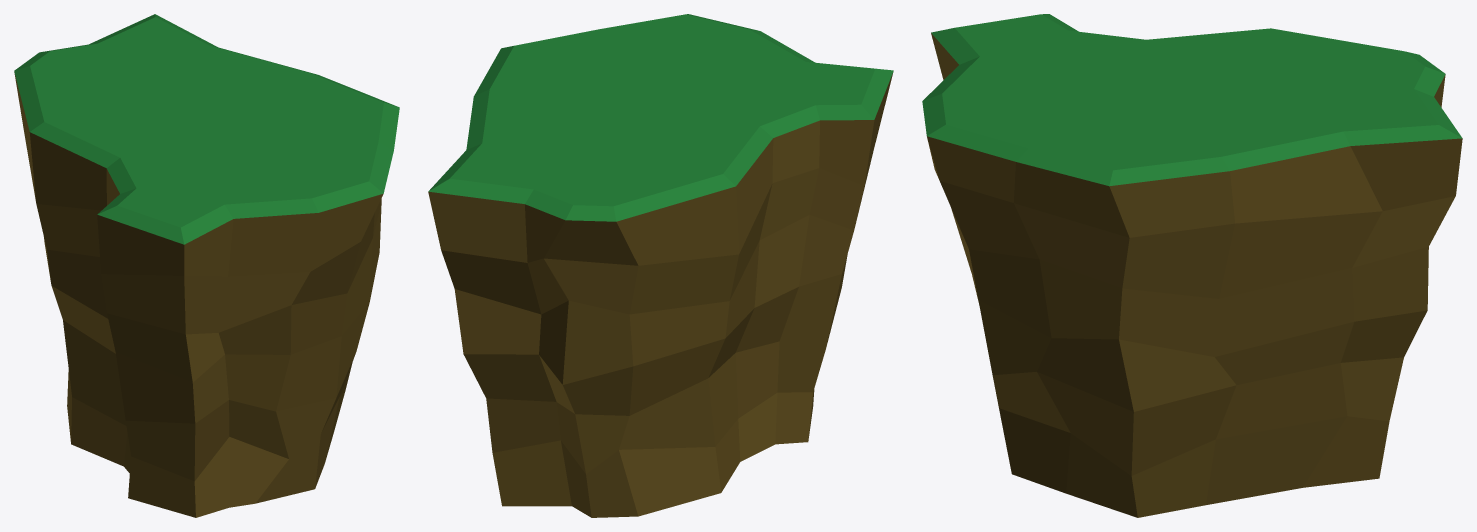
Rendered from wall3.fbx.
3 views of the same model, side by side, from view 1: azimuth 30°, elevation 25°; view 2: azimuth 150°, elevation 25°; view 3: azimuth 270°, elevation 25° (orthographic). The views are drawn at different scales.
Parts seen in each view (by area): view 1: Wall 3; view 2: Wall 3; view 3: Wall 3.
Part boxes in pixels (left/top/right/bottom): Wall 3: left=14, top=14, right=399, bottom=517; Wall 3: left=428, top=14, right=893, bottom=517; Wall 3: left=922, top=14, right=1462, bottom=517.
Size of the model in its own units: 238 by 226 by 301.
